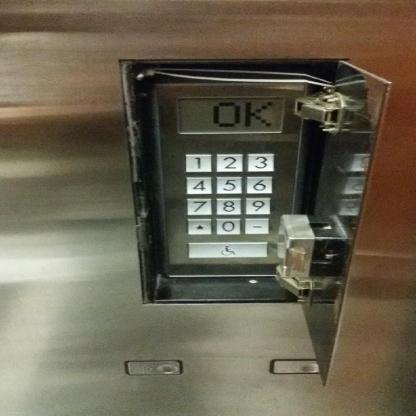-: (242, 216, 270, 236)
0: (214, 216, 241, 235)
1: (184, 153, 213, 173)
2: (214, 152, 245, 173)
3: (244, 152, 275, 173)
4: (182, 176, 214, 195)
5: (214, 175, 243, 195)
6: (244, 175, 274, 195)
7: (184, 197, 214, 217)
8: (214, 197, 242, 216)
9: (241, 197, 271, 216)
CH: (184, 240, 270, 260)
close: (267, 357, 322, 376)
led: (174, 95, 288, 135)
open: (122, 357, 185, 377)
s: (183, 218, 214, 236)
